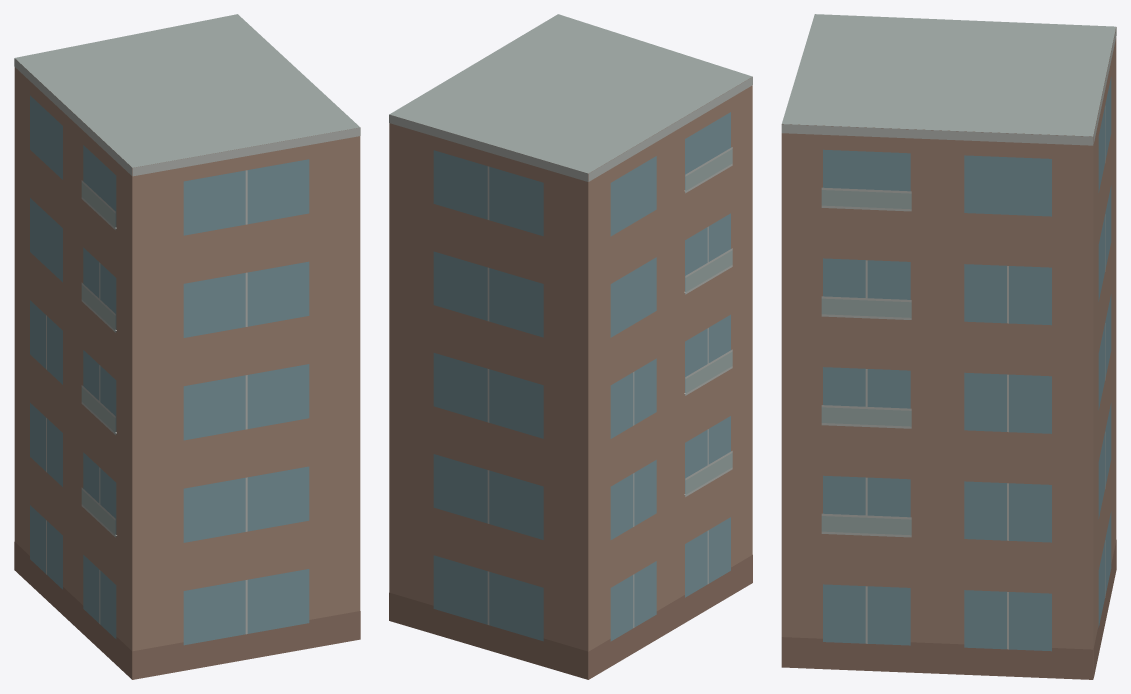
The model's file is survey-upis-32747290.glb.
3 views of the same model, side by side, from view 1: azimuth 30°, elevation 25°; view 2: azimuth 150°, elevation 25°; view 3: azimuth 270°, elevation 25° (orthographic). The views are drawn at different scales.
Visible parts, largest first — view 1: survey-upis-32747290.tmp; view 2: survey-upis-32747290.tmp; view 3: survey-upis-32747290.tmp.
Boxes of the visible parts, x1,y1,x2,y2 form: survey-upis-32747290.tmp: [14, 14, 360, 679]; survey-upis-32747290.tmp: [389, 14, 752, 679]; survey-upis-32747290.tmp: [781, 14, 1116, 679].
Bounding box in the file's own units: 7 × 14.45 × 8.08.
